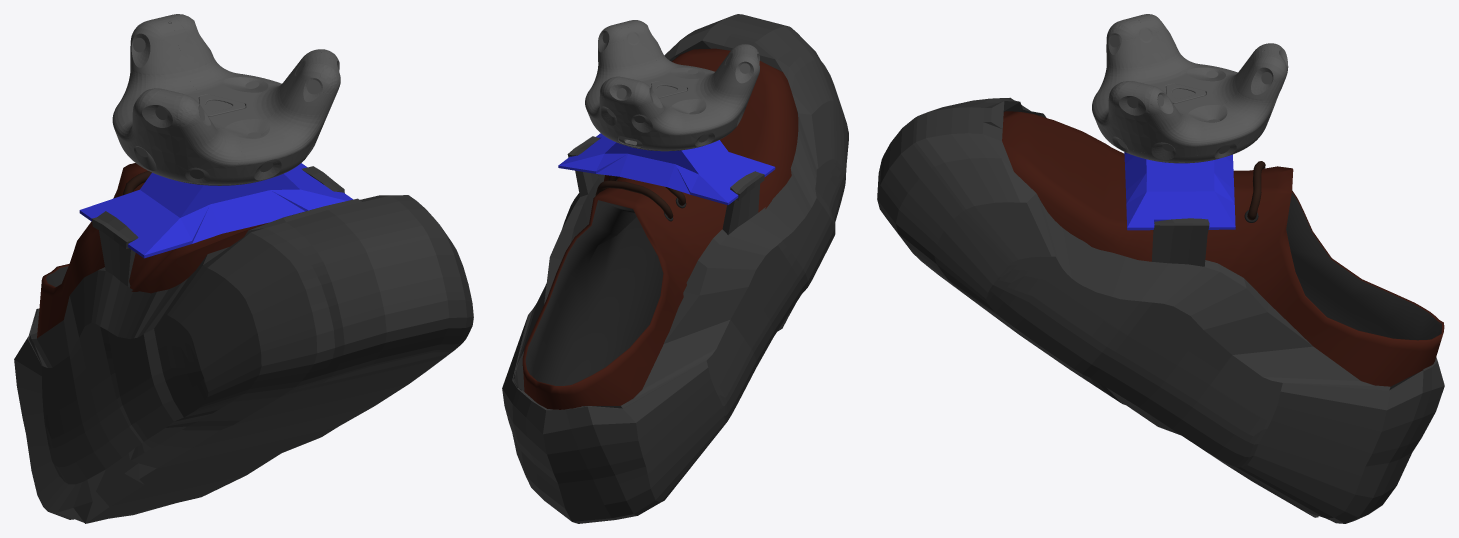
File: fullshoemodel.fbx
3 views of the same model, side by side, from view 1: azimuth 30°, elevation 25°; view 2: azimuth 150°, elevation 25°; view 3: azimuth 270°, elevation 25° (orthographic). The views are drawn at different scales.
Parts seen in each view (by area): view 1: Cube; view 2: Cube; view 3: Cube.
Boxes of the visible parts, x1,y1,x2,y2 form: Cube: (14,14,473,523); Cube: (502,14,848,523); Cube: (877,14,1444,523).
Size of the model in its own units: 383 by 715 by 798.
